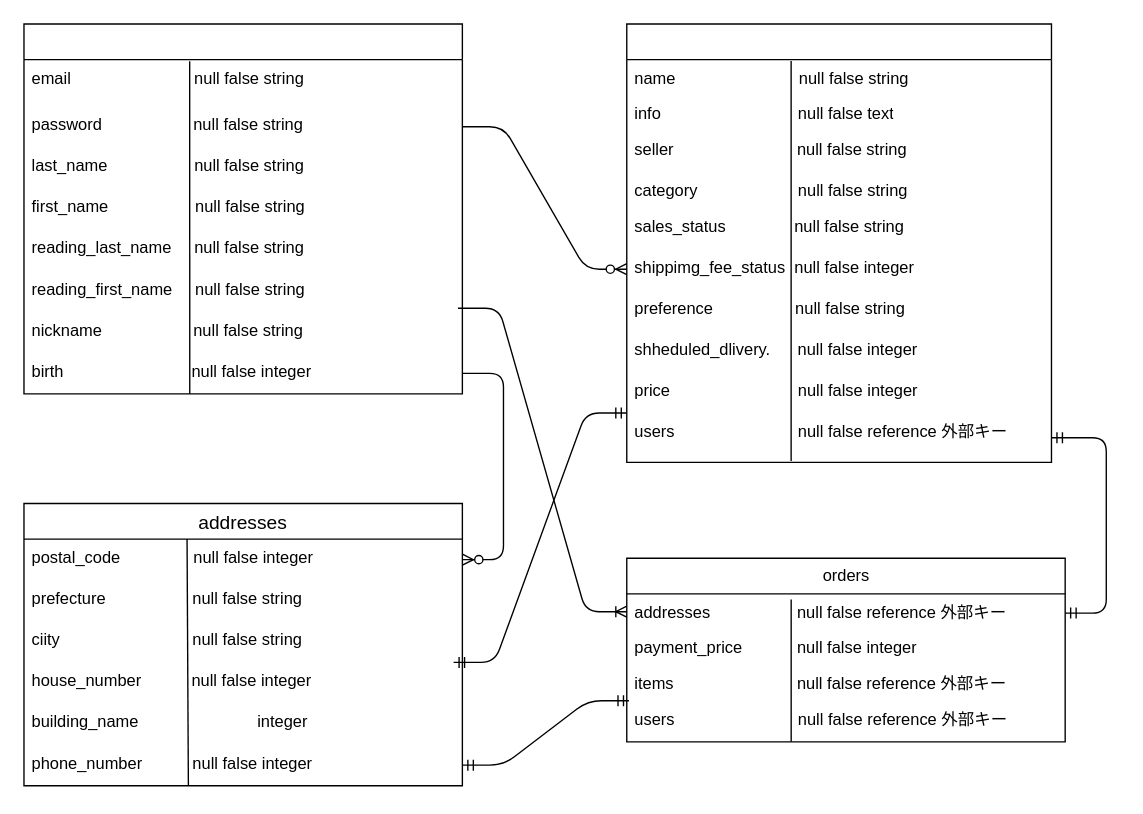
The diagram is 1143 pixels wide and 814 high, and some of its shapes have lost their labels. The box of each missing label's shape, as (x1, y1, x2, y2) in pixels:
items: (625, 23, 1051, 462)
users: (23, 23, 462, 394)
